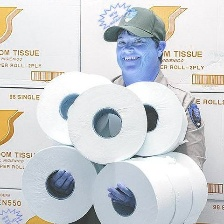tissue: (87, 146, 213, 224), (62, 78, 152, 168), (15, 140, 103, 224), (33, 67, 118, 149), (112, 76, 192, 160)
